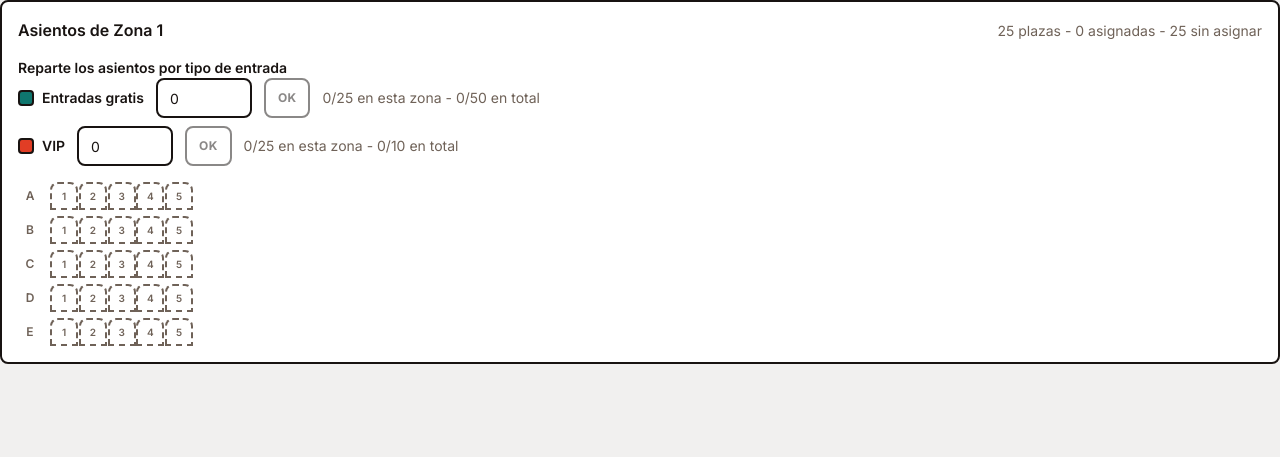
ZoneSeatEditor › selecting seats › assigns a ticket type to several seats at once
What coordinates should you click on to do the following:
click the button named "Asiento A1 sin asignar"
I would click on:
 (64, 196)
Its box is [50,182,78,210].
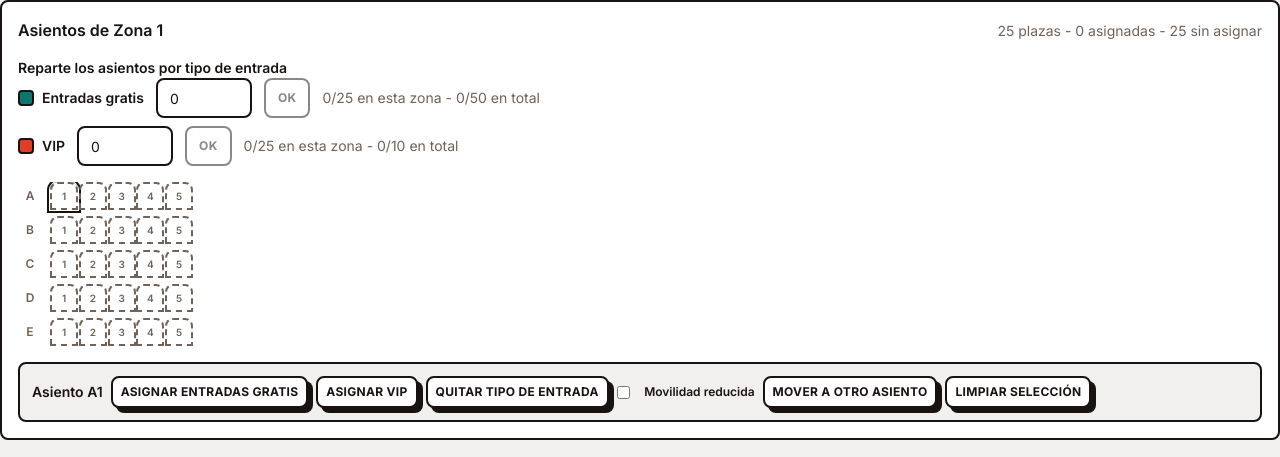
What coordinates should you click on to do the following:
click the 1st button "2"
I would click on:
 (93, 196)
Its box is [79,182,107,210].
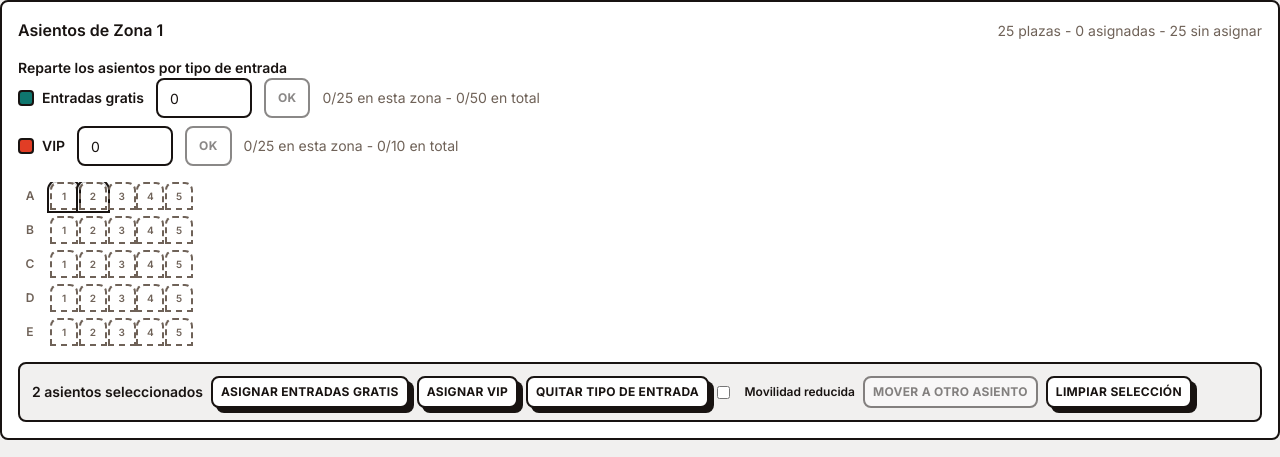
What coordinates should you click on to do the following:
click the 2nd button "3"
I would click on:
 (122, 230)
Its box is [108,216,136,244].
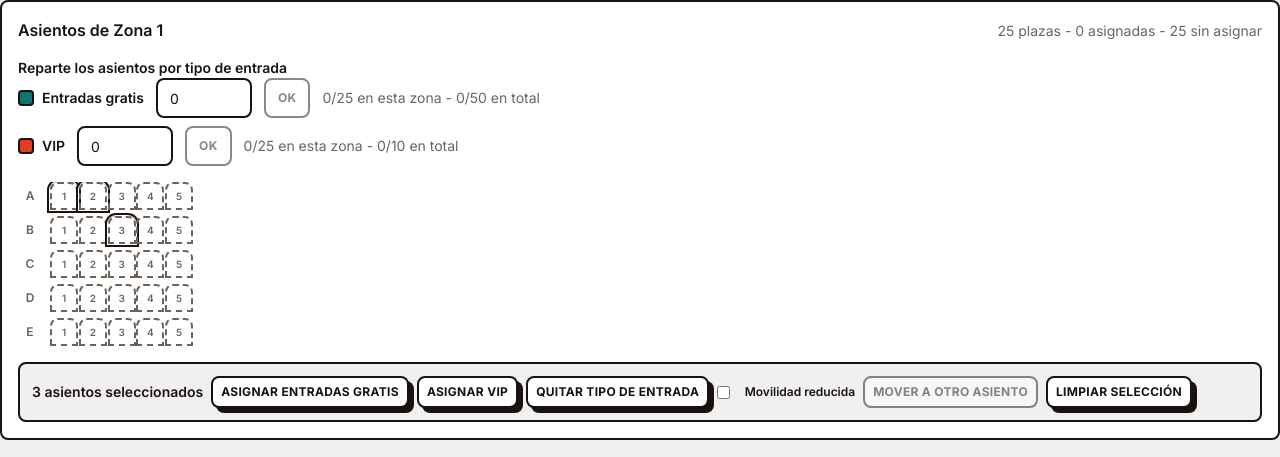
What coordinates should you click on to do the following:
click the button "Asignar VIP"
I would click on:
 (468, 392)
Its box is [417,376,518,408].
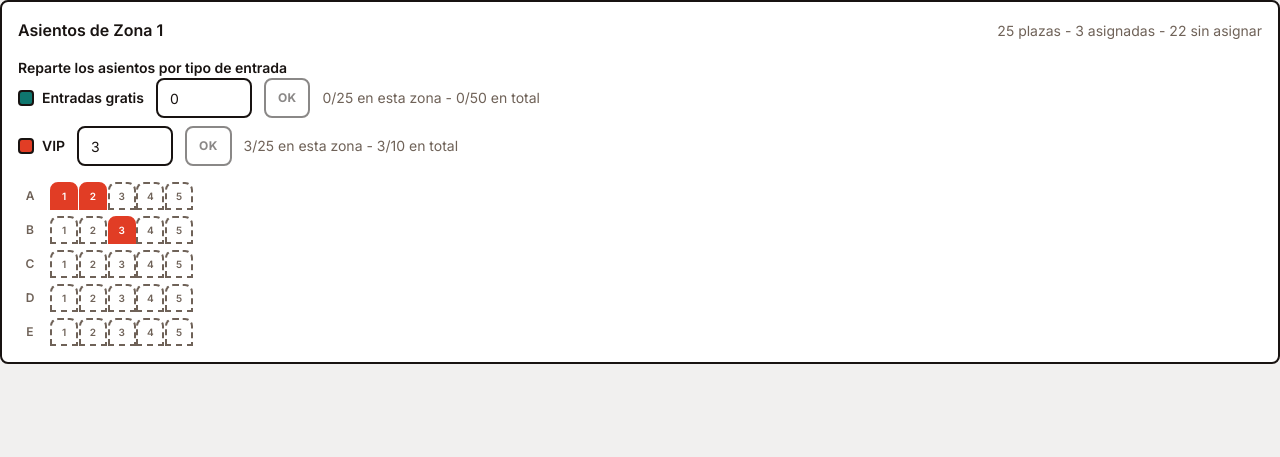
expect the button named "Asiento A1 VIP" is shown: met, box [50,182,78,210]
expect the button named "Asiento A2 VIP" is shown: met, box [79,182,107,210]
expect the button named "Asiento B3 VIP" is shown: met, box [108,216,136,244]
